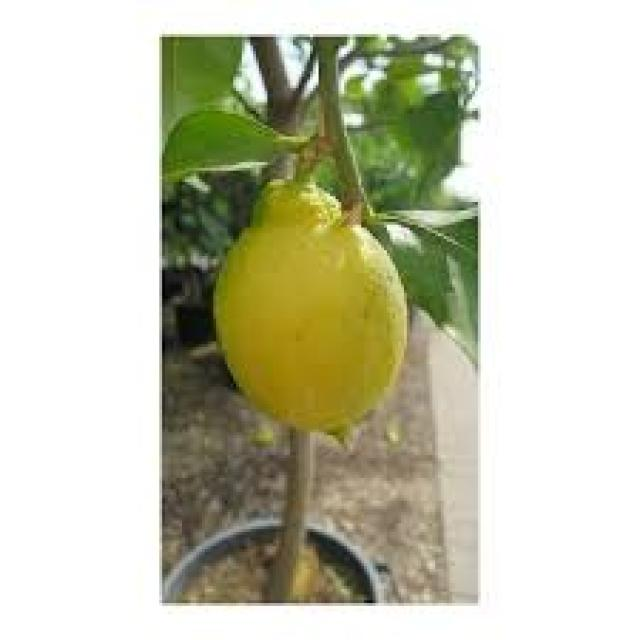Lemon: (210, 174, 412, 448)
